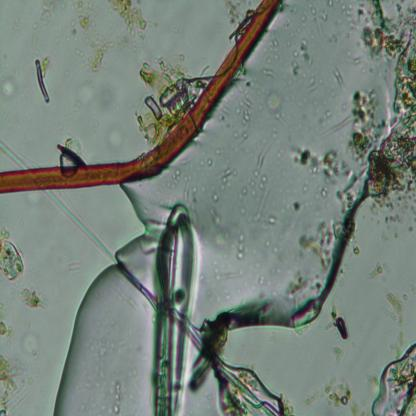Air bubble: (362, 338, 416, 416)
Background material: (144, 202, 197, 416), (193, 319, 288, 416), (370, 79, 416, 236), (140, 47, 191, 142), (363, 0, 416, 81), (286, 136, 345, 186), (350, 90, 380, 170), (301, 216, 349, 262), (304, 380, 352, 411), (110, 0, 149, 37), (284, 272, 324, 306), (86, 35, 117, 77), (232, 88, 257, 140), (0, 230, 24, 284), (51, 137, 86, 169), (68, 0, 96, 39), (0, 354, 17, 416), (285, 33, 309, 75), (33, 54, 52, 104), (36, 0, 67, 30), (235, 166, 266, 196), (339, 174, 364, 210), (16, 282, 48, 310), (340, 0, 365, 31), (330, 109, 357, 137), (308, 0, 336, 24), (385, 293, 404, 326), (20, 330, 42, 358), (333, 306, 352, 338), (264, 89, 286, 116), (221, 163, 238, 190), (252, 147, 271, 170), (110, 382, 122, 416), (335, 69, 350, 92), (368, 261, 386, 279), (218, 270, 244, 282), (0, 318, 15, 337), (237, 229, 246, 259), (335, 342, 345, 362), (205, 156, 215, 166), (352, 244, 359, 256)
Glass filter fibre: (45, 189, 117, 264), (0, 141, 29, 171)
Microfibre: (0, 0, 281, 195)
